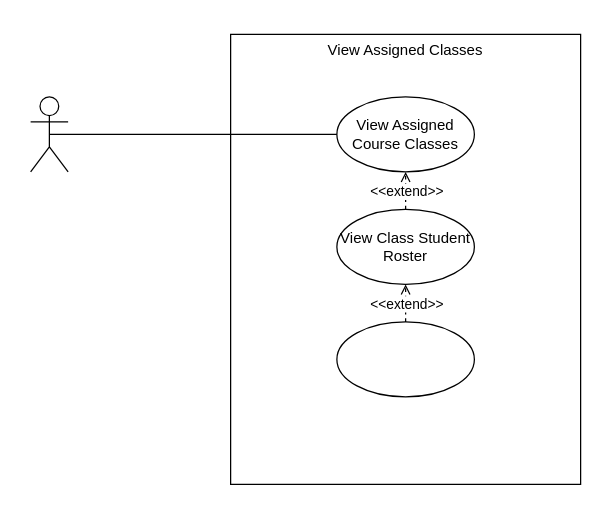
This 603x506 diagram has some shape labels left out. The shapes that lost their labels are listed below. From the top down, each one's box as (x1, y1, x2, y2) in pixels, then its label:
(29, 96, 68, 172): Lecturer
(336, 321, 474, 397): Input & Edit Grades
